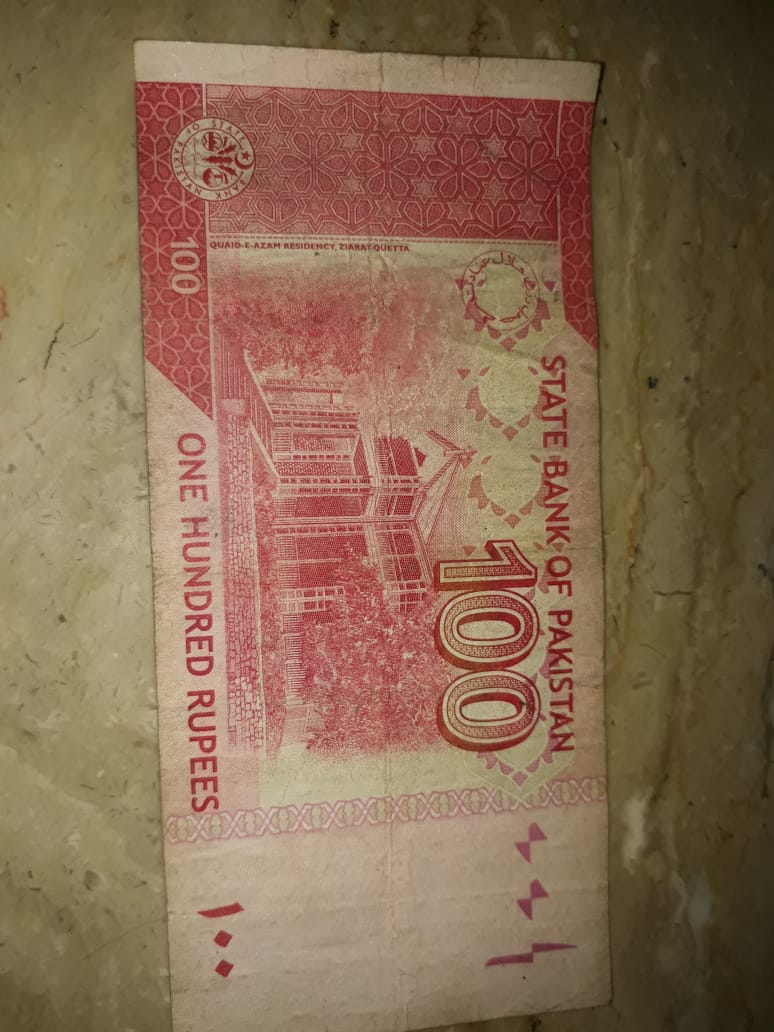100 rupee: (130, 37, 686, 1032)
